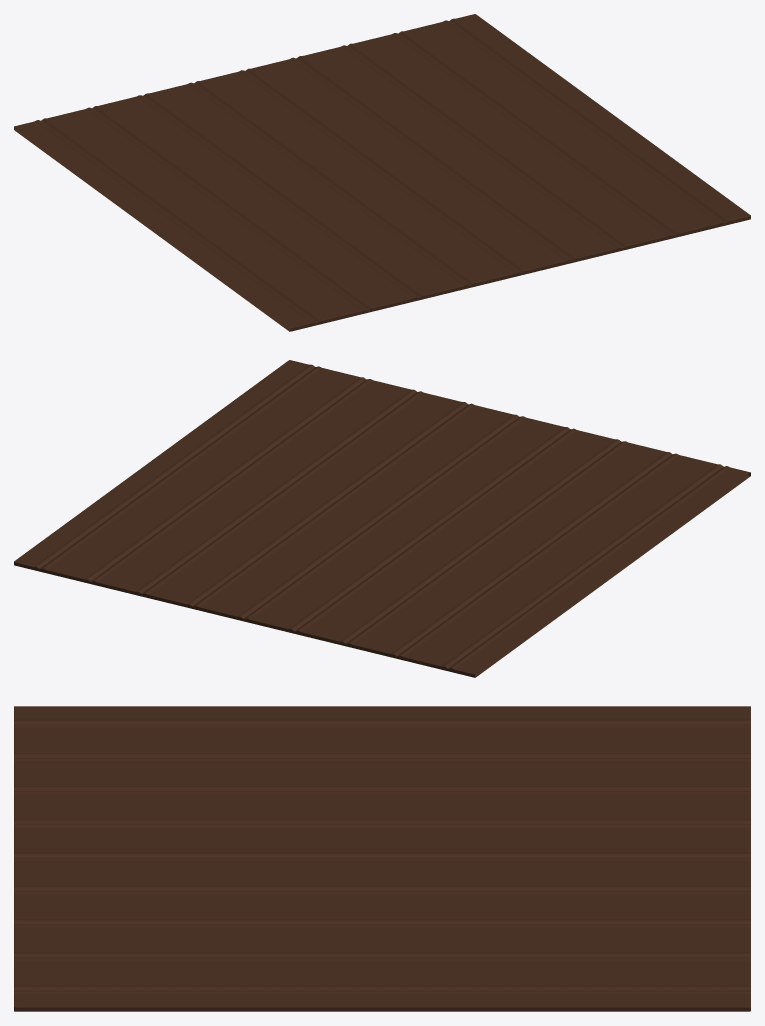
Rendered from dirtTwo.glb.
3 renders of one model, top to bottom at view 1: azimuth 30°, elevation 25°; view 2: azimuth 150°, elevation 25°; view 3: azimuth 270°, elevation 25°, orthographic. The views are drawn at different scales.
Visible parts, largest first — view 1: dirt_two; view 2: dirt_two; view 3: dirt_two.
Part boxes in pixels (x1,y1,x2,y2): dirt_two: (14, 14, 750, 331); dirt_two: (14, 360, 750, 677); dirt_two: (14, 706, 750, 1011).
Bounding box in the file's own units: 25.11 × 0.2339 × 26.
